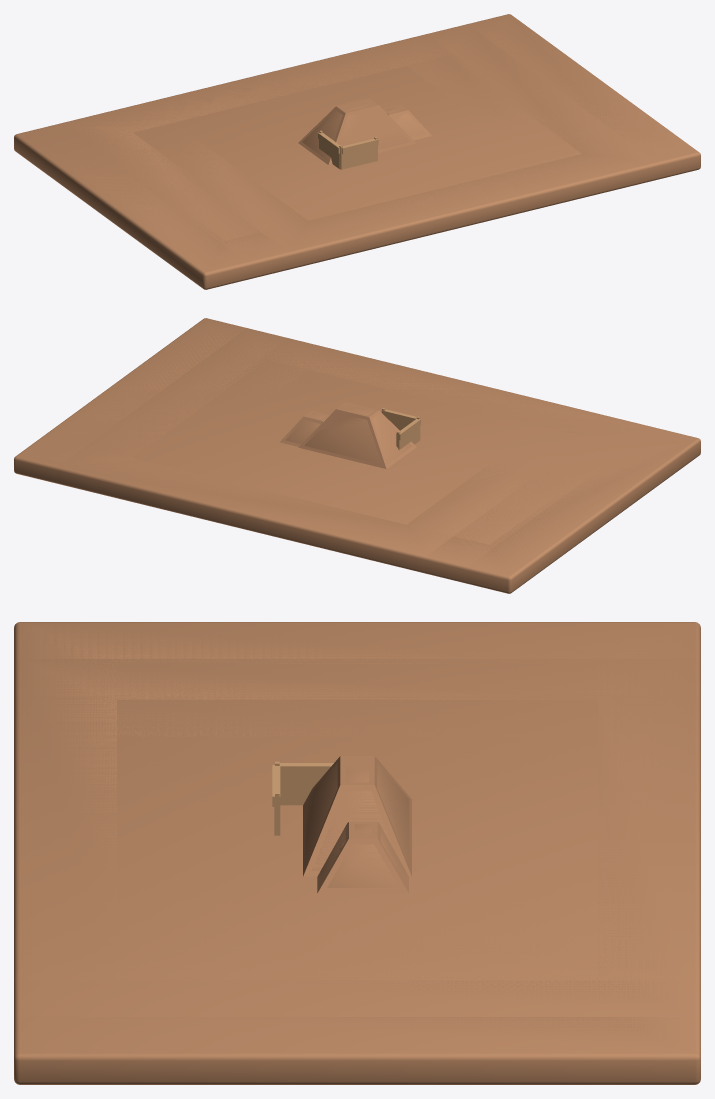
Rendered from BLD_SITEWORK_A_v002.glb.
The picture shows the model from 3 angles, top to bottom: view 1: azimuth 30°, elevation 25°; view 2: azimuth 150°, elevation 25°; view 3: azimuth 270°, elevation 25°; orthographic projection. The views are drawn at different scales.
Parts seen in each view (by area): view 1: BLD_SITEWORK_A_PLOT_3X2, BLD_SITEWORK_A_PIT_3X2, BLD_SITEWORK_A_PLOT_4X2, BLD_SITEWORK_A_PLOT_2X2, BLD_SITEWORK_A_PIT_4X2, BLD_SITEWORK_A_PIT_2X2, BLD_SITEWORK_A_SPOIL_HEAP_LOW, BLD_SITEWORK_A_SPOIL_HEAP, BLD_SITEWORK_A_BATTER_BOARD_LOW, BLD_SITEWORK_A_BATTER_BOARD; view 2: BLD_SITEWORK_A_PLOT_3X2, BLD_SITEWORK_A_PLOT_4X2, BLD_SITEWORK_A_PIT_3X2, BLD_SITEWORK_A_PIT_4X2, BLD_SITEWORK_A_PIT_2X2, BLD_SITEWORK_A_PLOT_2X2, BLD_SITEWORK_A_SPOIL_HEAP, BLD_SITEWORK_A_SPOIL_HEAP_LOW, BLD_SITEWORK_A_BATTER_BOARD_LOW; view 3: BLD_SITEWORK_A_PLOT_3X2, BLD_SITEWORK_A_PIT_3X2, BLD_SITEWORK_A_PIT_4X2, BLD_SITEWORK_A_PLOT_2X2, BLD_SITEWORK_A_PLOT_4X2, BLD_SITEWORK_A_PIT_2X2, BLD_SITEWORK_A_SPOIL_HEAP, BLD_SITEWORK_A_SPOIL_HEAP_LOW, BLD_SITEWORK_A_BATTER_BOARD_LOW.
Part boxes in pixels (bbox=[...]): BLD_SITEWORK_A_PLOT_3X2: bbox=[58, 24, 657, 265]; BLD_SITEWORK_A_PIT_3X2: bbox=[61, 24, 657, 279]; BLD_SITEWORK_A_PLOT_4X2: bbox=[14, 14, 700, 286]; BLD_SITEWORK_A_PLOT_2X2: bbox=[100, 38, 615, 255]; BLD_SITEWORK_A_PIT_4X2: bbox=[14, 14, 700, 289]; BLD_SITEWORK_A_PIT_2X2: bbox=[162, 34, 608, 269]; BLD_SITEWORK_A_SPOIL_HEAP_LOW: bbox=[298, 98, 431, 164]; BLD_SITEWORK_A_SPOIL_HEAP: bbox=[302, 102, 425, 160]; BLD_SITEWORK_A_BATTER_BOARD_LOW: bbox=[319, 133, 377, 169]; BLD_SITEWORK_A_BATTER_BOARD: bbox=[318, 130, 378, 169]; BLD_SITEWORK_A_PLOT_3X2: bbox=[57, 328, 653, 582]; BLD_SITEWORK_A_PLOT_4X2: bbox=[14, 318, 699, 591]; BLD_SITEWORK_A_PIT_3X2: bbox=[57, 328, 656, 583]; BLD_SITEWORK_A_PIT_4X2: bbox=[14, 318, 700, 593]; BLD_SITEWORK_A_PIT_2X2: bbox=[98, 339, 614, 573]; BLD_SITEWORK_A_PLOT_2X2: bbox=[98, 338, 583, 571]; BLD_SITEWORK_A_SPOIL_HEAP: bbox=[285, 406, 412, 464]; BLD_SITEWORK_A_SPOIL_HEAP_LOW: bbox=[280, 402, 416, 468]; BLD_SITEWORK_A_BATTER_BOARD_LOW: bbox=[381, 410, 419, 449]; BLD_SITEWORK_A_PLOT_3X2: bbox=[14, 659, 700, 1021]; BLD_SITEWORK_A_PIT_3X2: bbox=[17, 659, 700, 1016]; BLD_SITEWORK_A_PIT_4X2: bbox=[14, 622, 700, 1084]; BLD_SITEWORK_A_PLOT_2X2: bbox=[14, 695, 700, 984]; BLD_SITEWORK_A_PLOT_4X2: bbox=[14, 622, 700, 1081]; BLD_SITEWORK_A_PIT_2X2: bbox=[17, 695, 696, 980]; BLD_SITEWORK_A_SPOIL_HEAP: bbox=[305, 762, 409, 887]; BLD_SITEWORK_A_SPOIL_HEAP_LOW: bbox=[303, 756, 411, 893]; BLD_SITEWORK_A_BATTER_BOARD_LOW: bbox=[274, 764, 332, 835].
Bounding box in the file's own units: 18 × 1.9 × 12.
